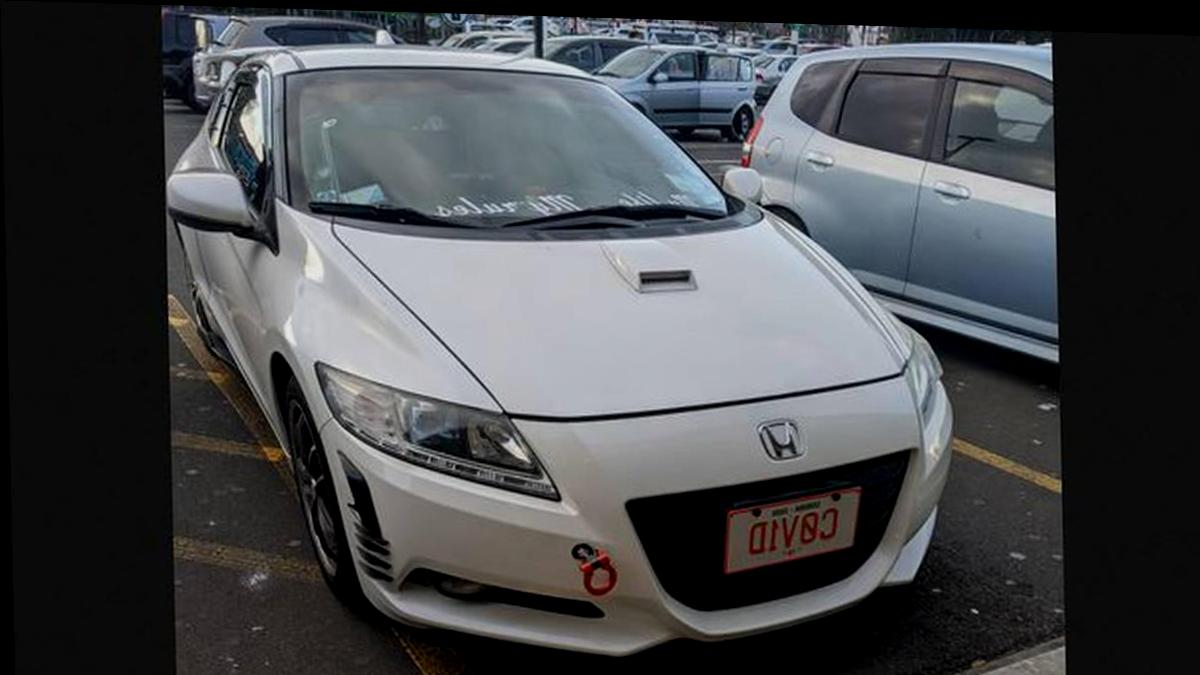License_Plate: (708, 471, 873, 588)
